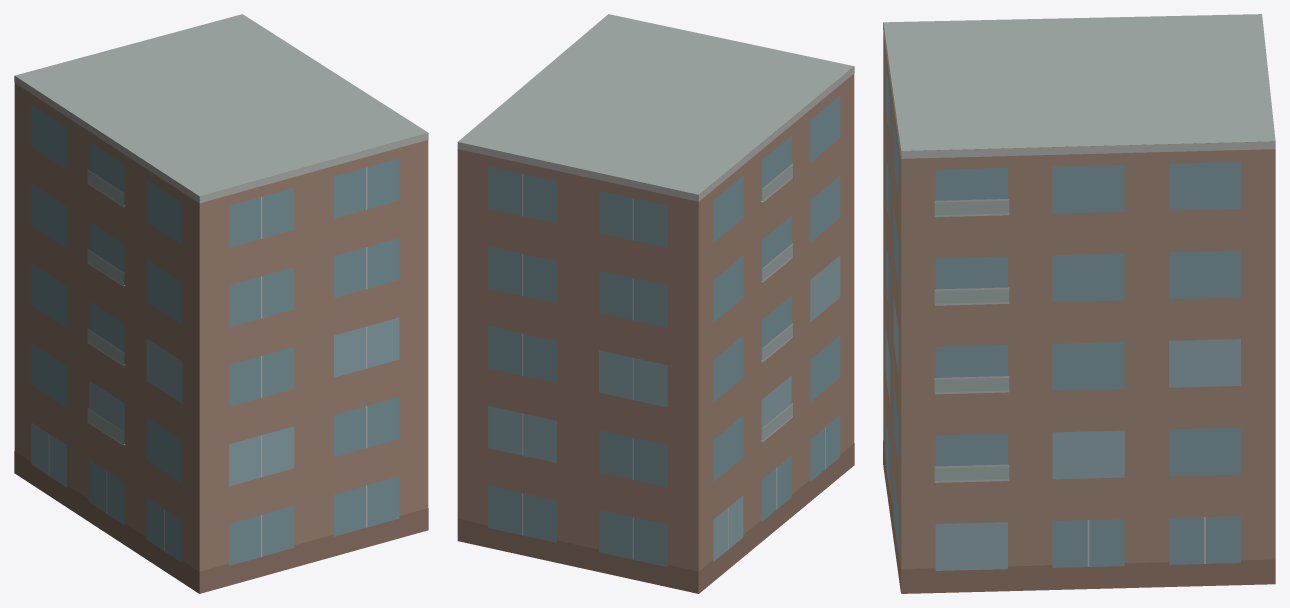
File: survey-upis-32706251.glb
The picture shows the model from 3 angles, left to right: view 1: azimuth 30°, elevation 25°; view 2: azimuth 150°, elevation 25°; view 3: azimuth 270°, elevation 25°; orthographic projection. The views are drawn at different scales.
Parts seen in each view (by area): view 1: survey-upis-32706251.tmp; view 2: survey-upis-32706251.tmp; view 3: survey-upis-32706251.tmp.
Boxes of the visible parts, x1,y1,x2,y2 form: survey-upis-32706251.tmp: [14, 14, 428, 593]; survey-upis-32706251.tmp: [457, 14, 854, 593]; survey-upis-32706251.tmp: [883, 14, 1275, 593].
Size of the model in its own units: 9.17 by 13.8 by 11.09.
